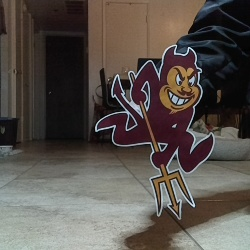sparky: (93, 44, 216, 220)
